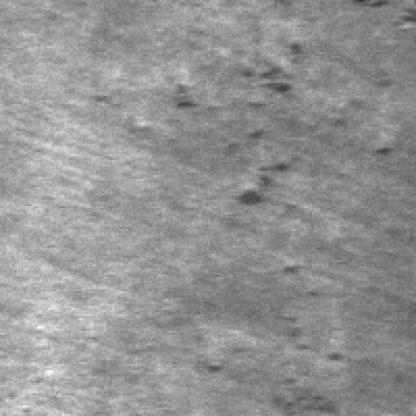rolled-in_scale: (152, 50, 310, 202)
